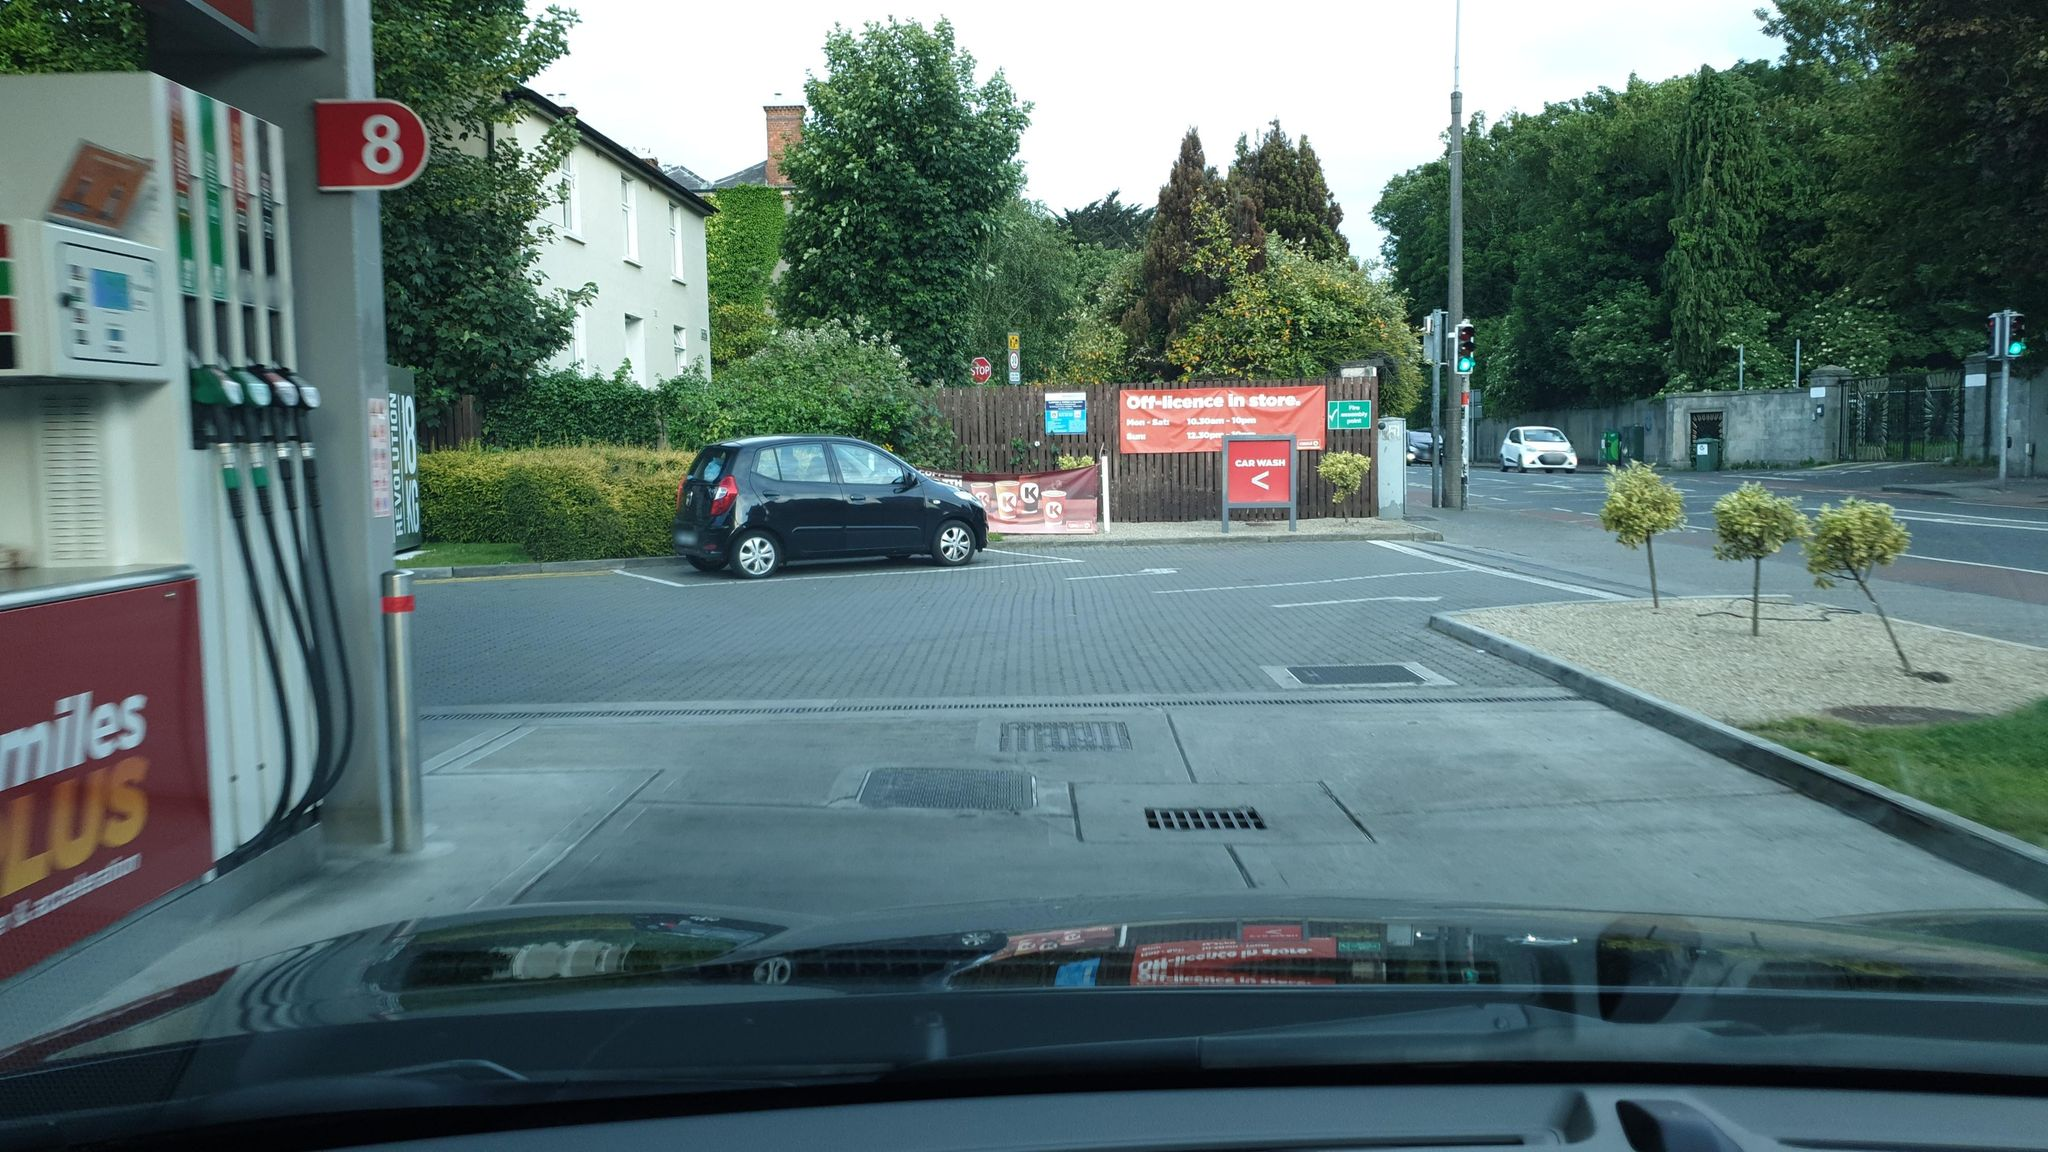vinyl banner: (911, 450, 1114, 546), (1111, 383, 1338, 454)
